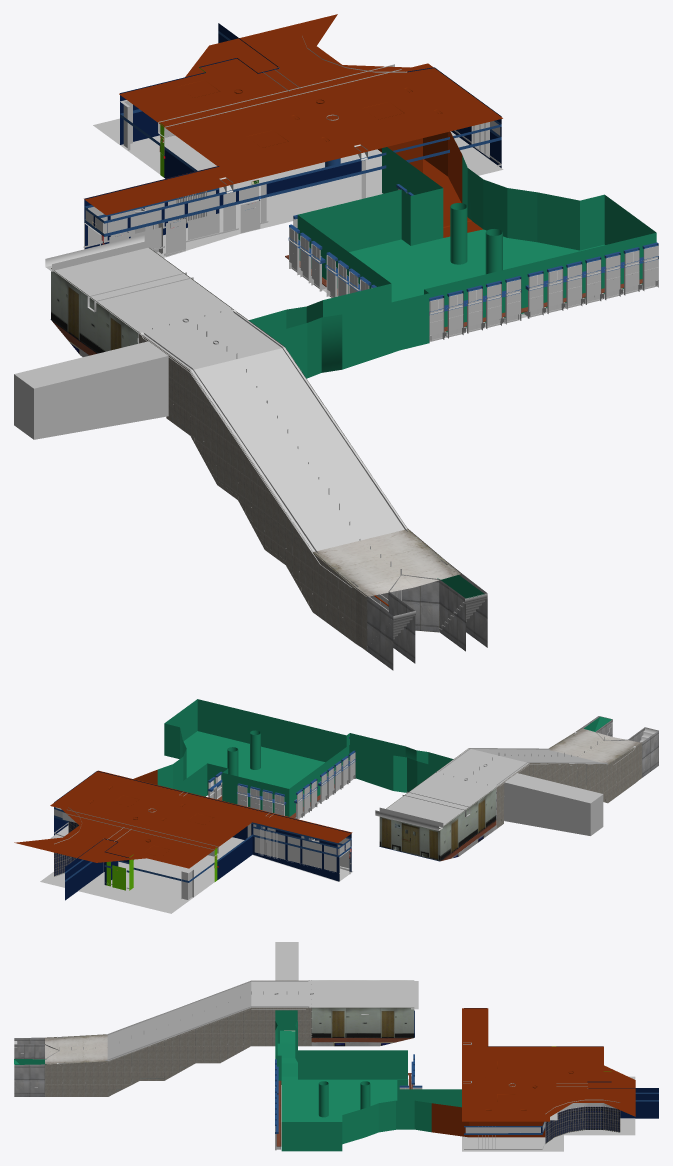
File: vestuarios.FBX
3 views of the same model, one above another, from view 1: azimuth 30°, elevation 25°; view 2: azimuth 150°, elevation 25°; view 3: azimuth 270°, elevation 25° (orthographic). The views are drawn at different scales.
Parts seen in each view (by area): view 1: stairs, changing_room, col_mesh, dekcs; view 2: changing_room, stairs, col_mesh, dekcs; view 3: stairs, changing_room, col_mesh, dekcs.
Boxes of the visible parts, x1,y1,x2,y2 form: stairs: [14, 234, 487, 670]; changing_room: [83, 14, 503, 257]; col_mesh: [249, 131, 656, 598]; dekcs: [285, 184, 658, 342]; changing_room: [14, 770, 352, 913]; stairs: [375, 716, 658, 861]; col_mesh: [134, 699, 611, 816]; dekcs: [208, 737, 355, 819]; stairs: [14, 942, 418, 1096]; changing_room: [462, 1008, 658, 1151]; col_mesh: [14, 1010, 545, 1151]; dekcs: [275, 1054, 422, 1150].
Size of the model in its own units: 3741 by 926 by 5675.
